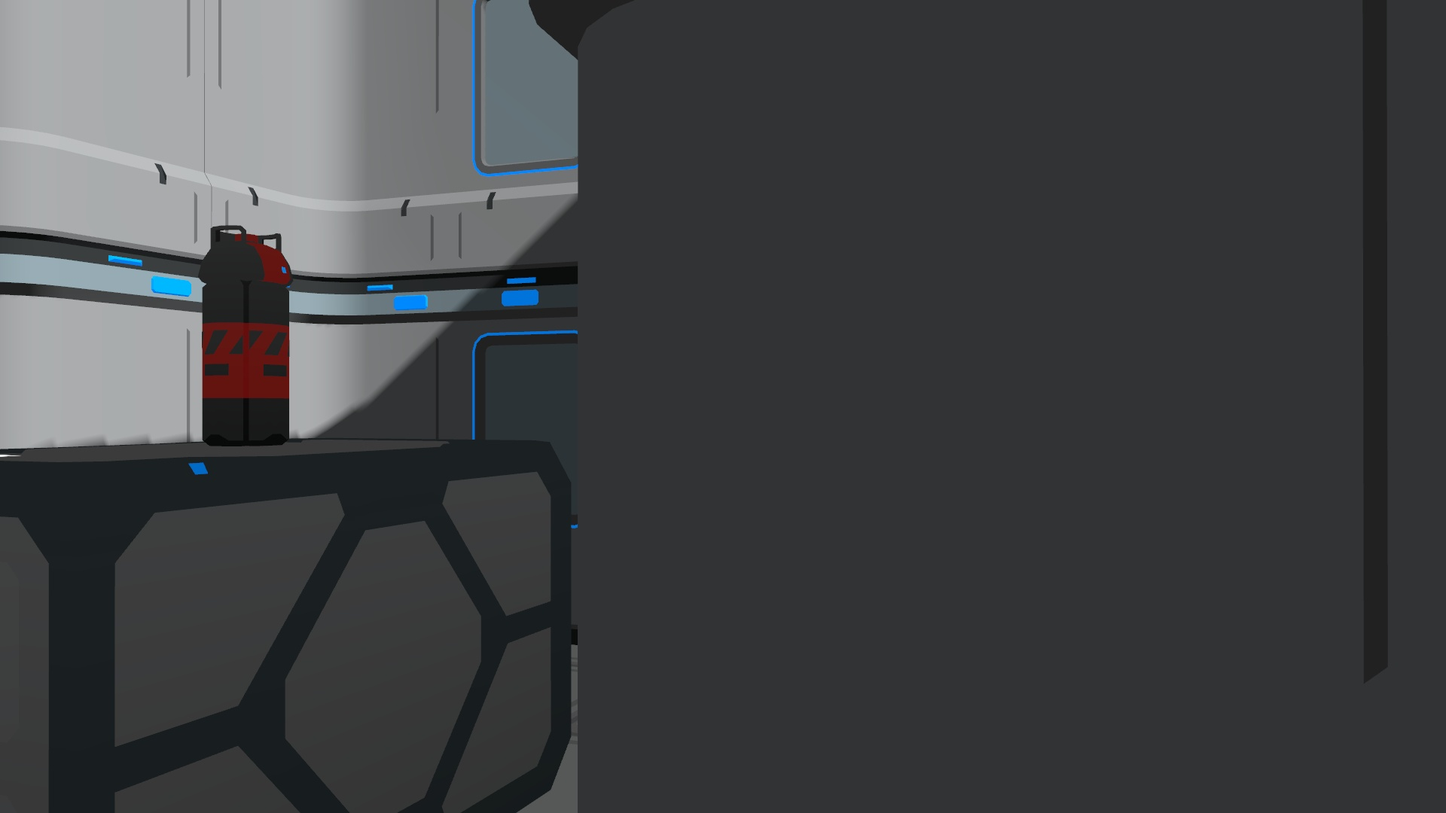red_barrel: (197, 222, 295, 453)
